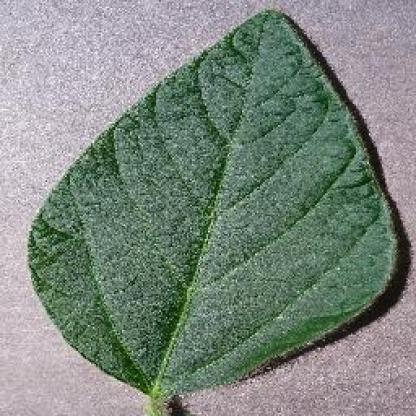soy: (0, 1, 416, 414)
